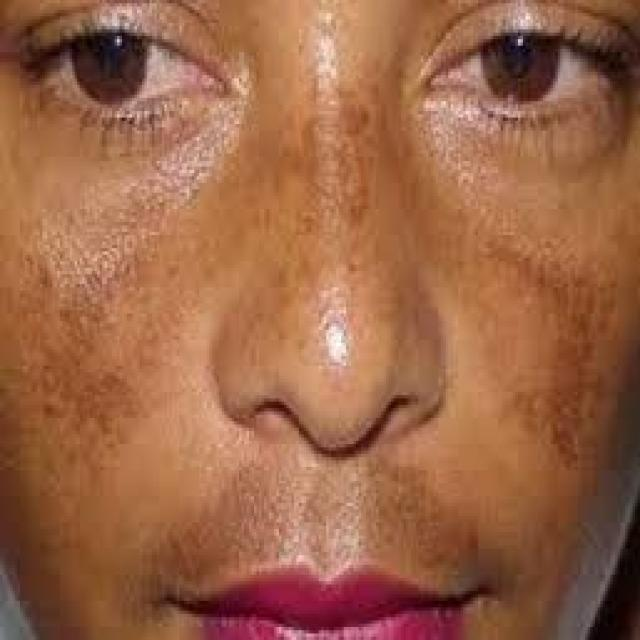pigmentation: (492, 230, 608, 457), (35, 284, 149, 452)
